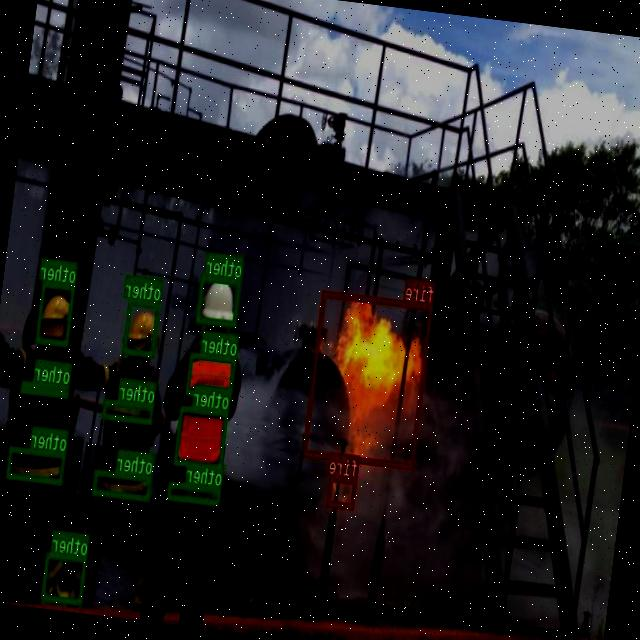fire: (303, 290, 434, 468), (327, 474, 358, 508)
